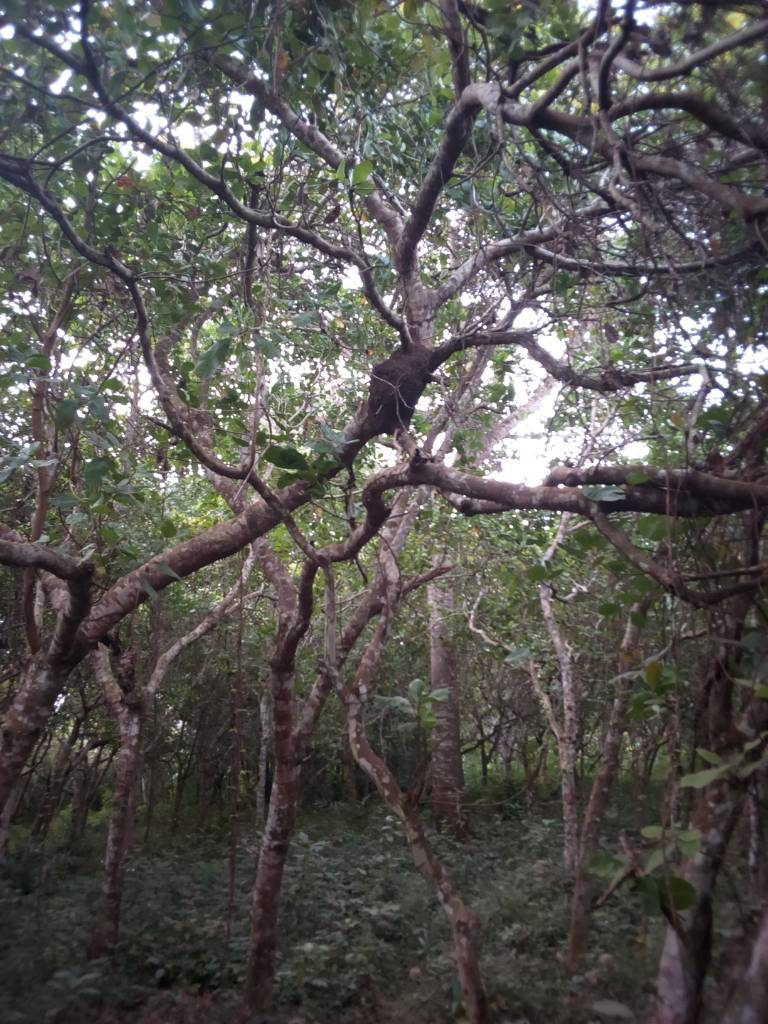Virose: (354, 313, 455, 436)
